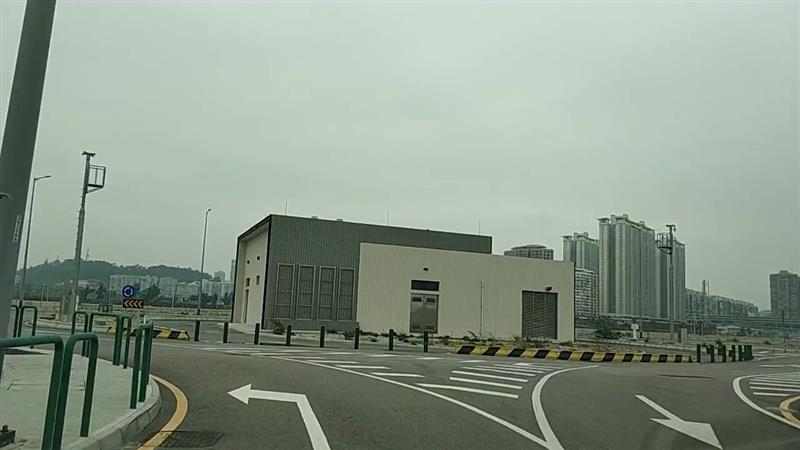roadDown: (631, 391, 727, 450)
roadTurnLeft: (224, 380, 334, 450)
roundaboutBlue: (121, 285, 135, 299)
